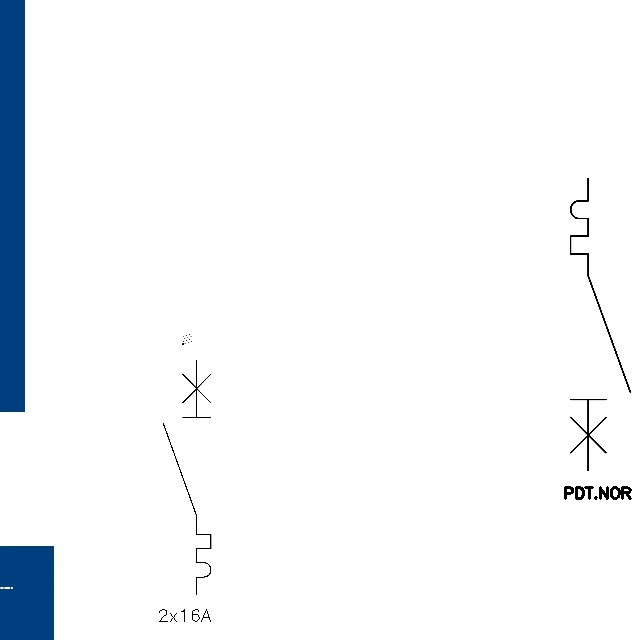interruptor_termomagnetico: (563, 171, 638, 478), (157, 354, 217, 601)
